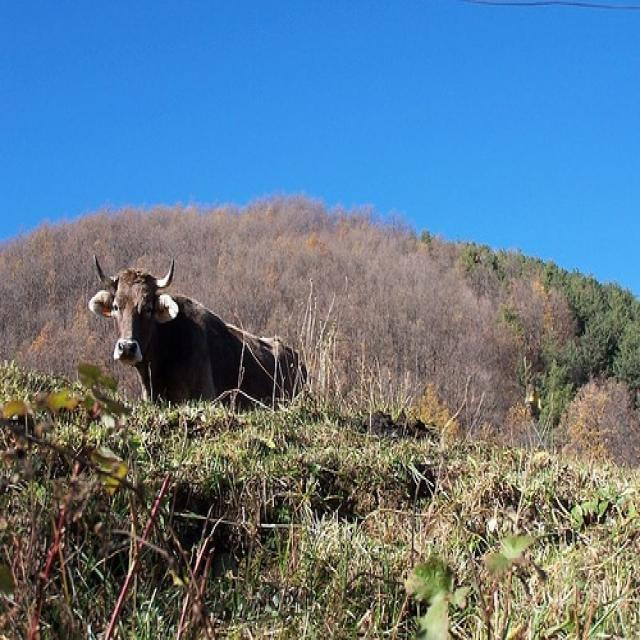cow: (83, 252, 306, 402)
